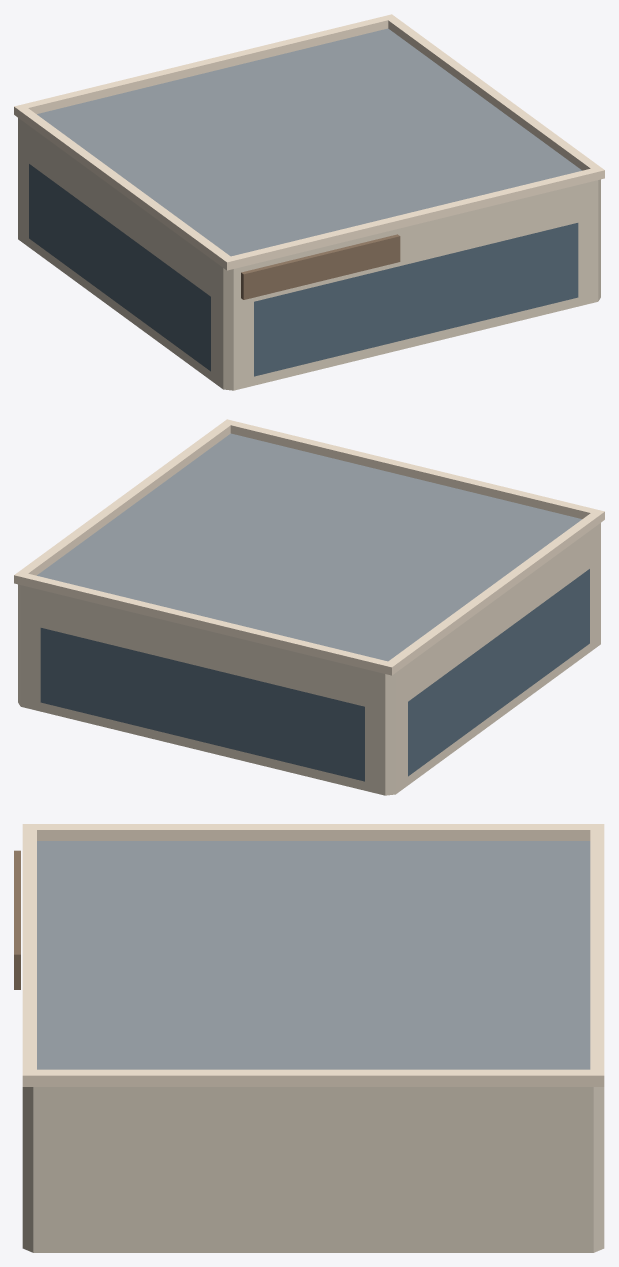
File: detail.glb
The picture shows the model from 3 angles, top to bottom: view 1: azimuth 30°, elevation 25°; view 2: azimuth 150°, elevation 25°; view 3: azimuth 270°, elevation 25°; orthographic projection. The views are drawn at different scales.
Visible parts, largest first — view 1: common-market-south-end; view 2: common-market-south-end; view 3: common-market-south-end.
Part boxes in pixels (x1=…): common-market-south-end: x1=14, y1=14, x2=604, y2=390; common-market-south-end: x1=14, y1=419, x2=604, y2=795; common-market-south-end: x1=14, y1=824, x2=604, y2=1252.
Size of the model in its own units: 16.92 by 5.55 by 16.77.
